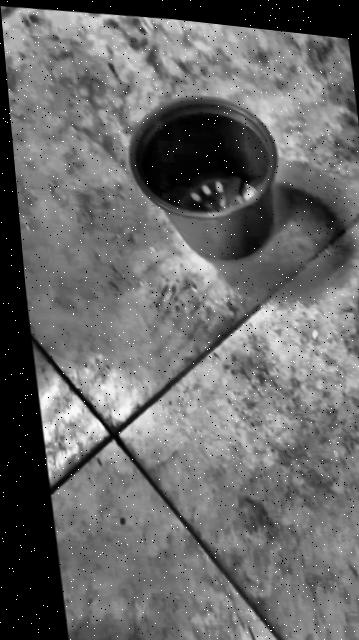pot: (119, 85, 291, 271)
